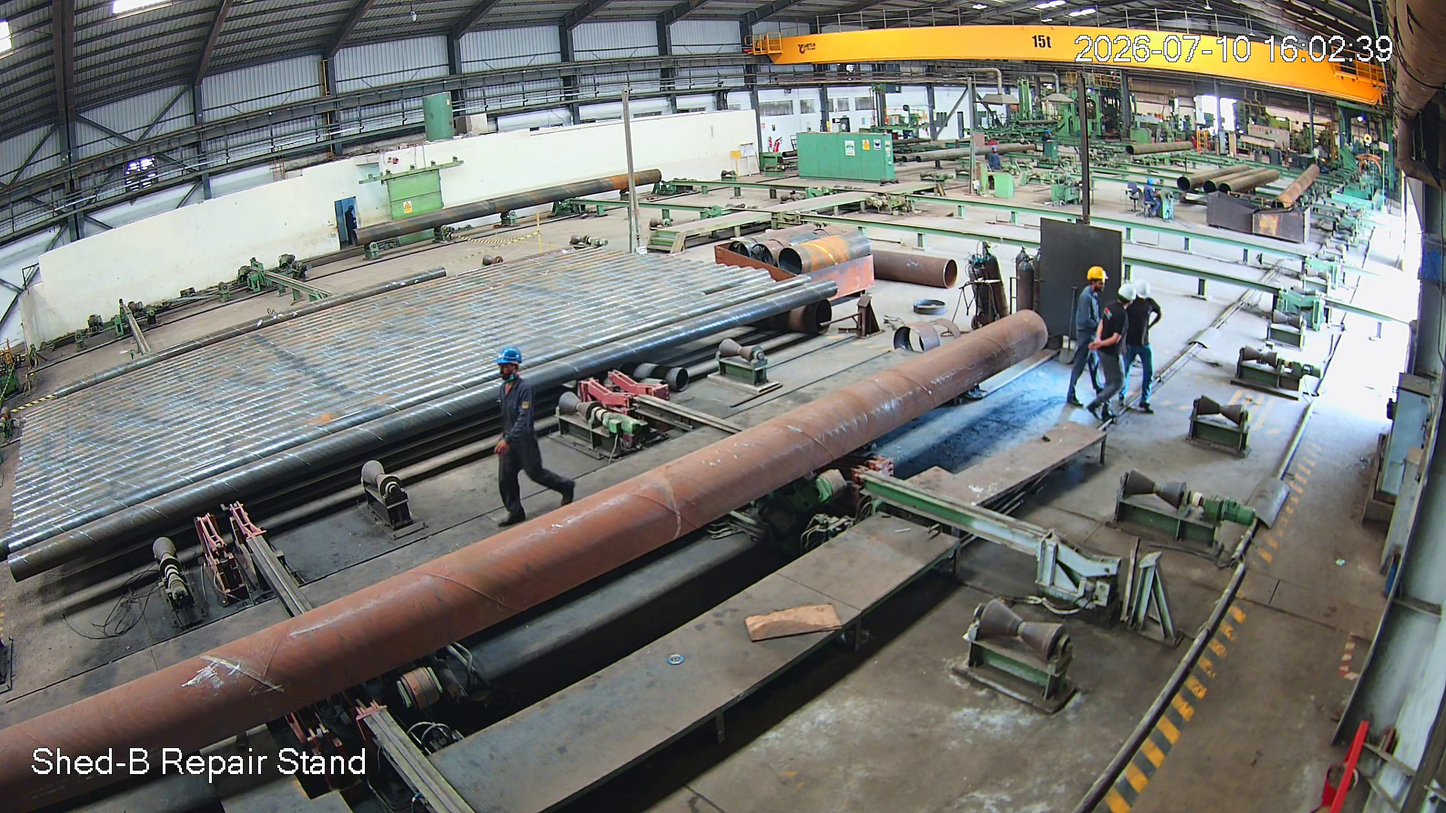Helmet: (488, 340, 544, 396), (1081, 256, 1115, 303), (1128, 273, 1158, 310), (1115, 279, 1136, 313)
Person: (473, 349, 589, 524), (1062, 262, 1115, 413), (1127, 275, 1164, 417), (1099, 279, 1136, 419)
